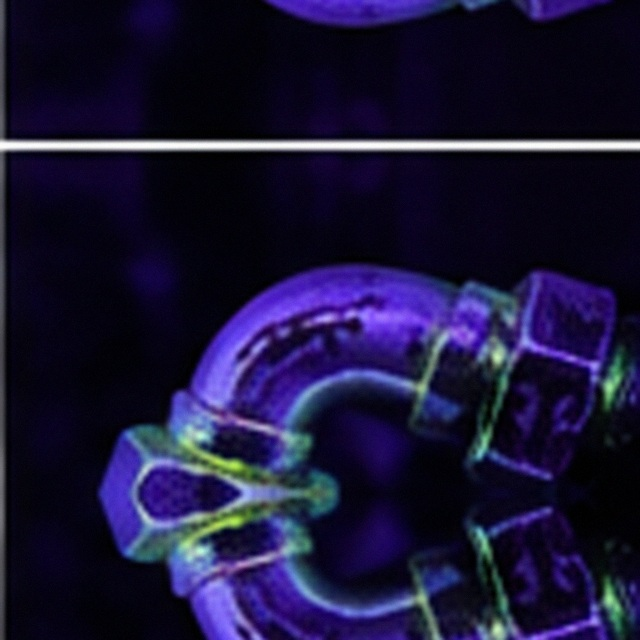hydraulic_oil_leak: (138, 427, 262, 480), (139, 506, 262, 557), (289, 474, 336, 513), (603, 355, 622, 408), (493, 366, 509, 415), (288, 522, 311, 555), (287, 431, 311, 462), (470, 426, 491, 458), (469, 528, 491, 556), (494, 293, 513, 308), (415, 397, 422, 413), (415, 573, 420, 582), (300, 414, 307, 420), (300, 566, 306, 572)
